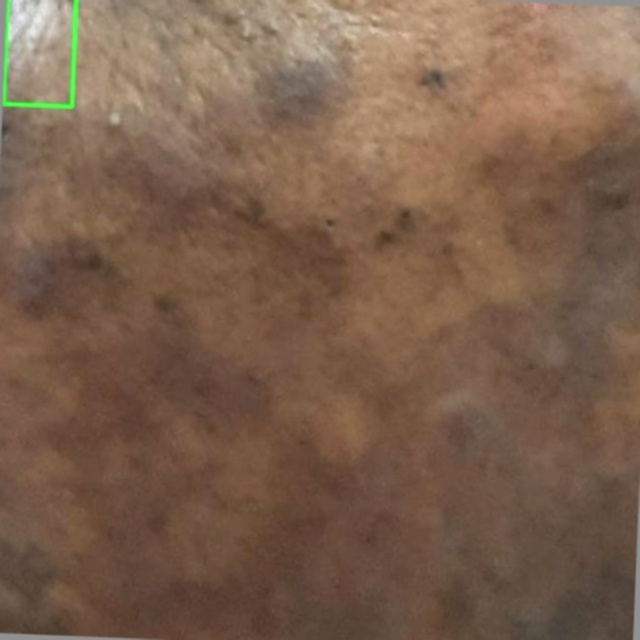Contact Dermatitis: (3, 0, 76, 106)
